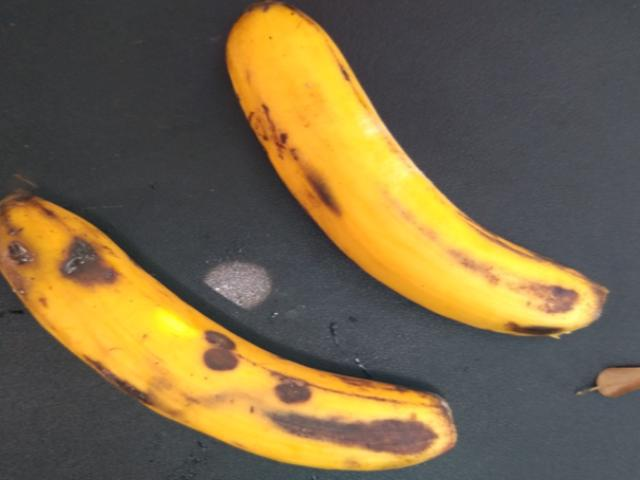overripe: (14, 181, 445, 479), (217, 0, 586, 340)
